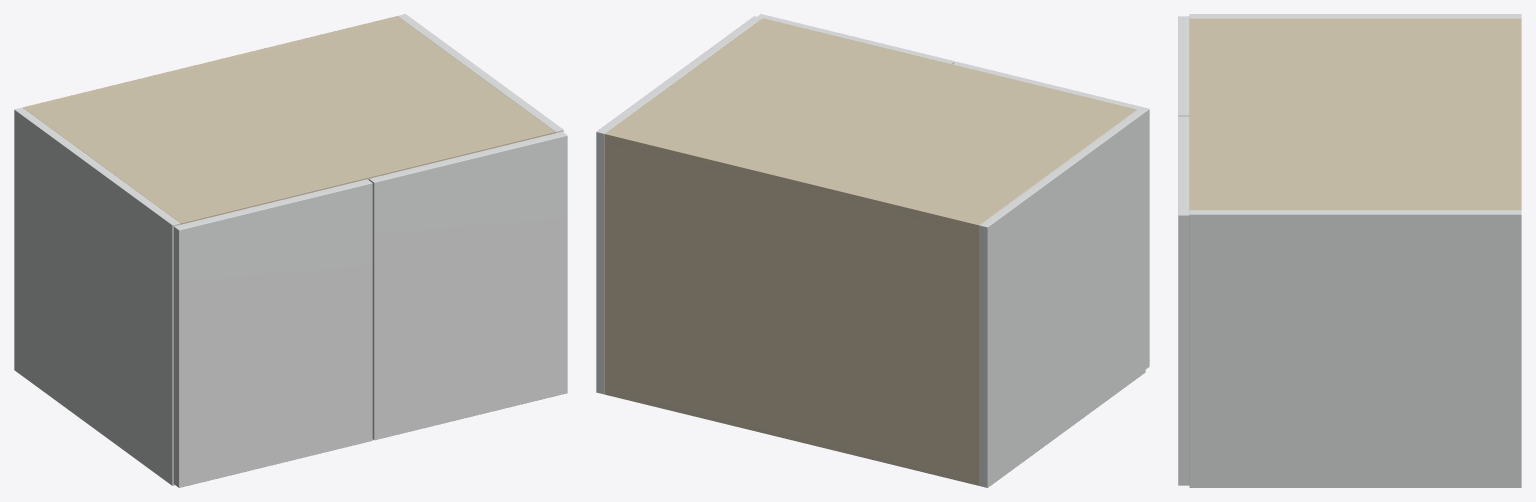
The model's file is oppein-ply-pgw-w332124.glb.
The picture shows the model from 3 angles, left to right: view 1: azimuth 30°, elevation 25°; view 2: azimuth 150°, elevation 25°; view 3: azimuth 270°, elevation 25°; orthographic projection. The views are drawn at different scales.
Visible parts, largest first — view 1: Cabinet top, Door, Door.001, Cabinet side, Cabinet side.001, Cabinet back; view 2: Cabinet back, Cabinet top, Cabinet side, Cabinet side.001, Cabinet bottom, Door, Door.001; view 3: Cabinet side.001, Cabinet top, Door.001, Cabinet side, Cabinet back, Door.
Boxes of the visible parts, <box> form: Cabinet top: <box>23,18,555,224</box>; Door: <box>173,179,372,487</box>; Door.001: <box>369,131,567,440</box>; Cabinet side: <box>14,107,180,485</box>; Cabinet side.001: <box>398,14,563,133</box>; Cabinet back: <box>23,16,399,109</box>; Cabinet back: <box>604,131,981,485</box>; Cabinet top: <box>604,18,1136,232</box>; Cabinet side: <box>979,109,1145,487</box>; Cabinet side.001: <box>596,16,762,394</box>; Cabinet bottom: <box>604,386,979,485</box>; Door: <box>952,61,1149,368</box>; Door.001: <box>757,14,954,64</box>; Cabinet side.001: <box>1189,210,1521,487</box>; Cabinet top: <box>1189,18,1521,210</box>; Door.001: <box>1178,116,1189,485</box>; Cabinet side: <box>1189,14,1521,18</box>; Cabinet back: <box>1515,18,1521,210</box>; Door: <box>1178,16,1189,116</box>.
Size of the model in its own units: 0.8382 by 0.5334 by 0.6064.
